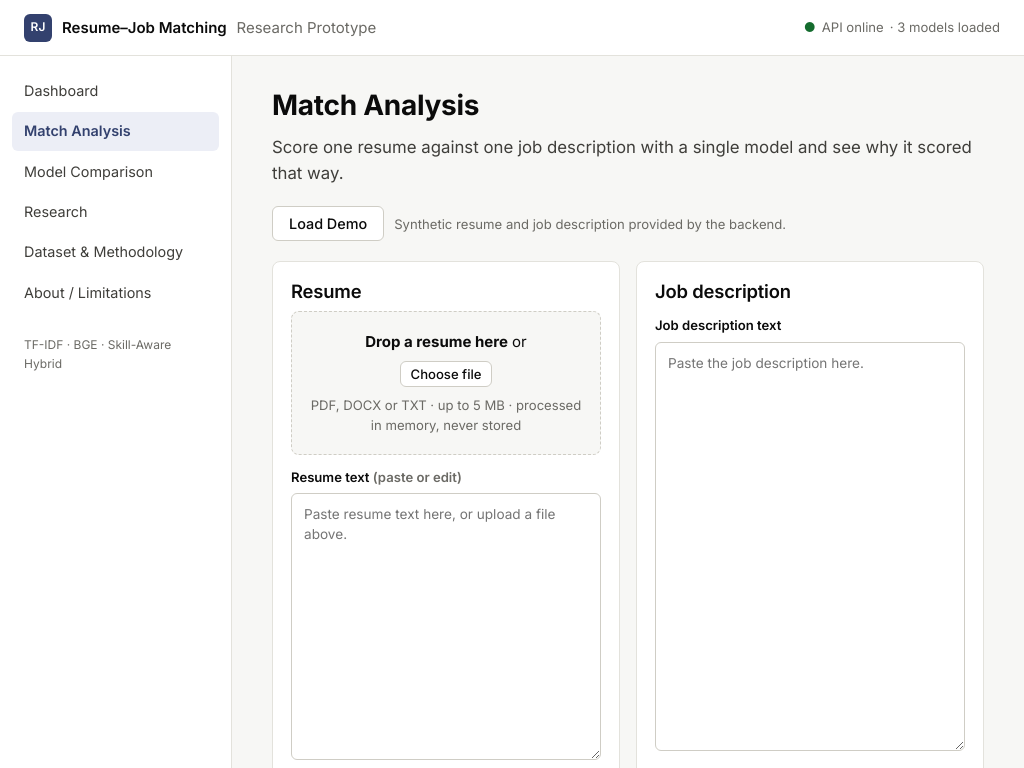
Test: match analysis › runs only the selected model
Click the button "Load Demo".
click(328, 224)  # box x1=272 y1=206 x2=384 y2=241
(page scrolled)
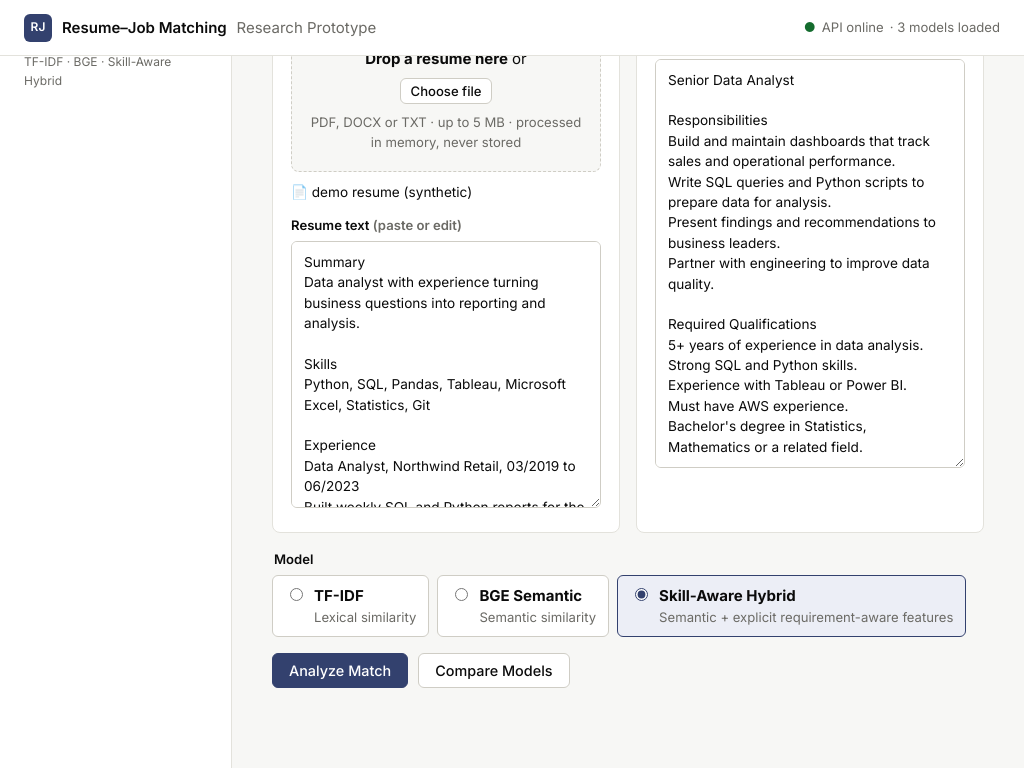
Click the radio button labelled "TF-IDF Lexical similarity".
click(296, 595)  # box x1=290 y1=588 x2=303 y2=601
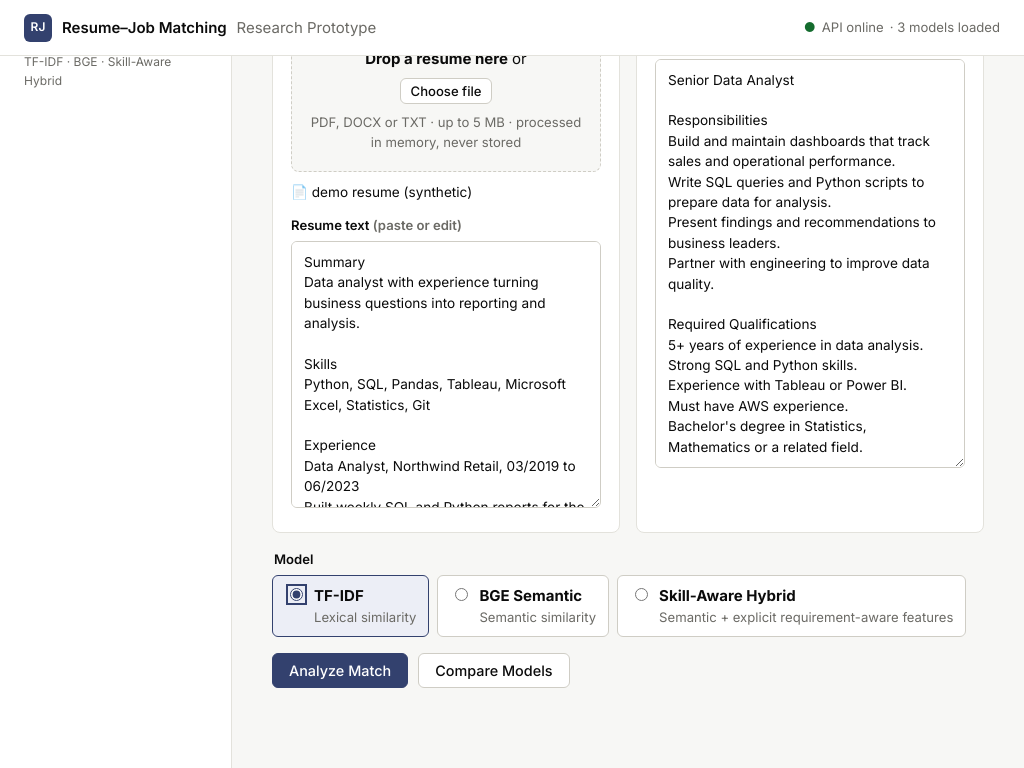
Click the button "Analyze Match".
click(340, 670)  # box x1=272 y1=653 x2=408 y2=688
(page scrolled)
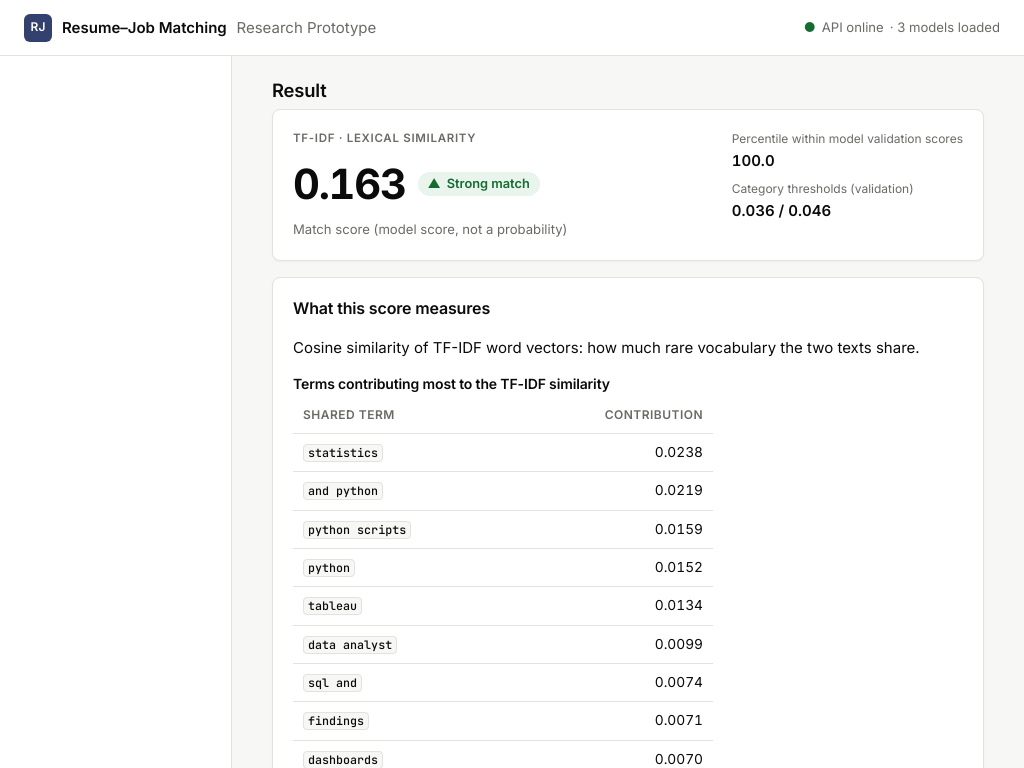
Expected: the heading "Terms contributing most to the TF-IDF similarity" is shown, x1=293 y1=375 x2=610 y2=392
